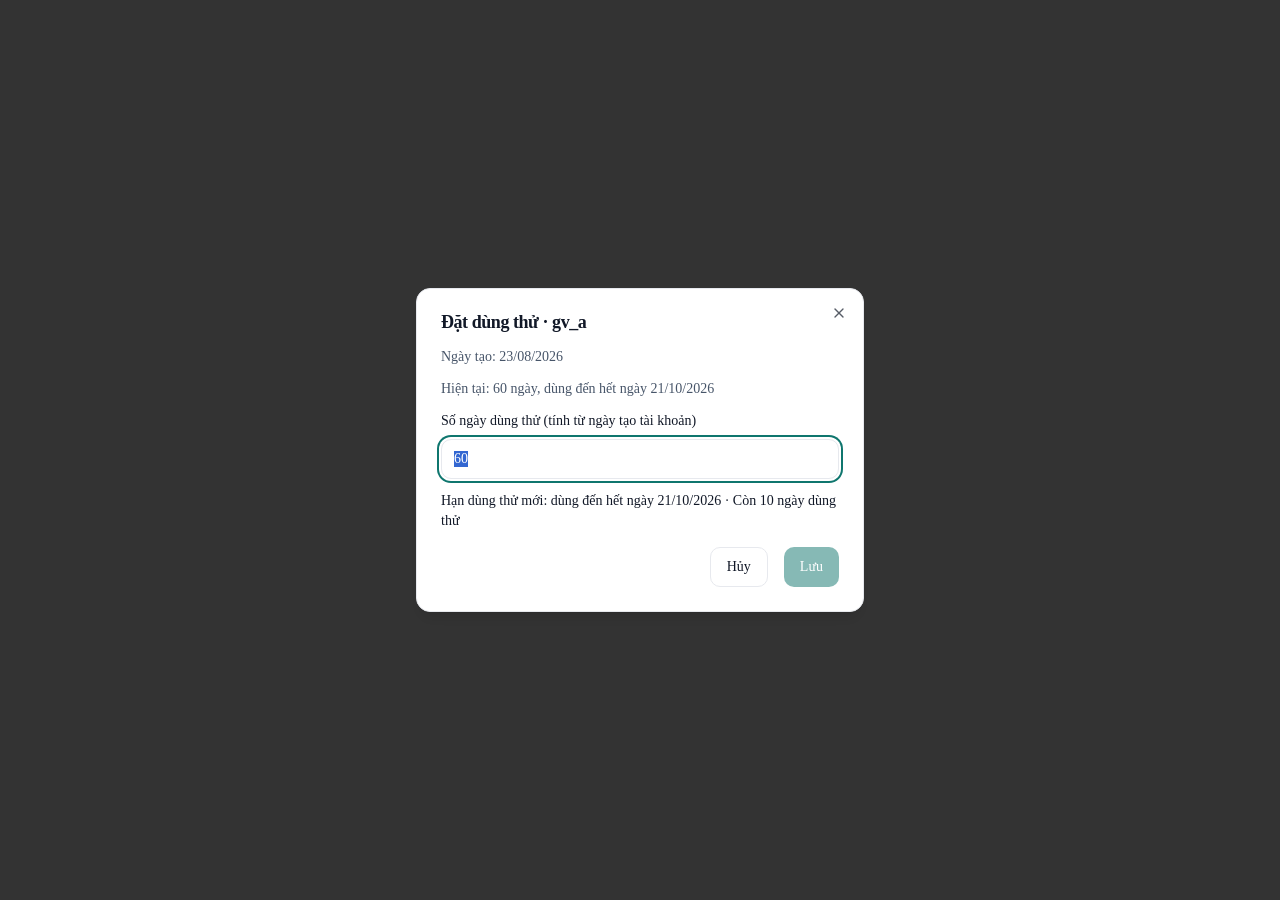
TrialDaysDialog › 0 → Không dùng thử; 4000 → lỗi khoảng, Lưu khóa
Replace the text in the field named "Số ngày dùng thử (tính từ ngày tạo tài khoản)" with "0": (640, 459) [441,439,839,479]
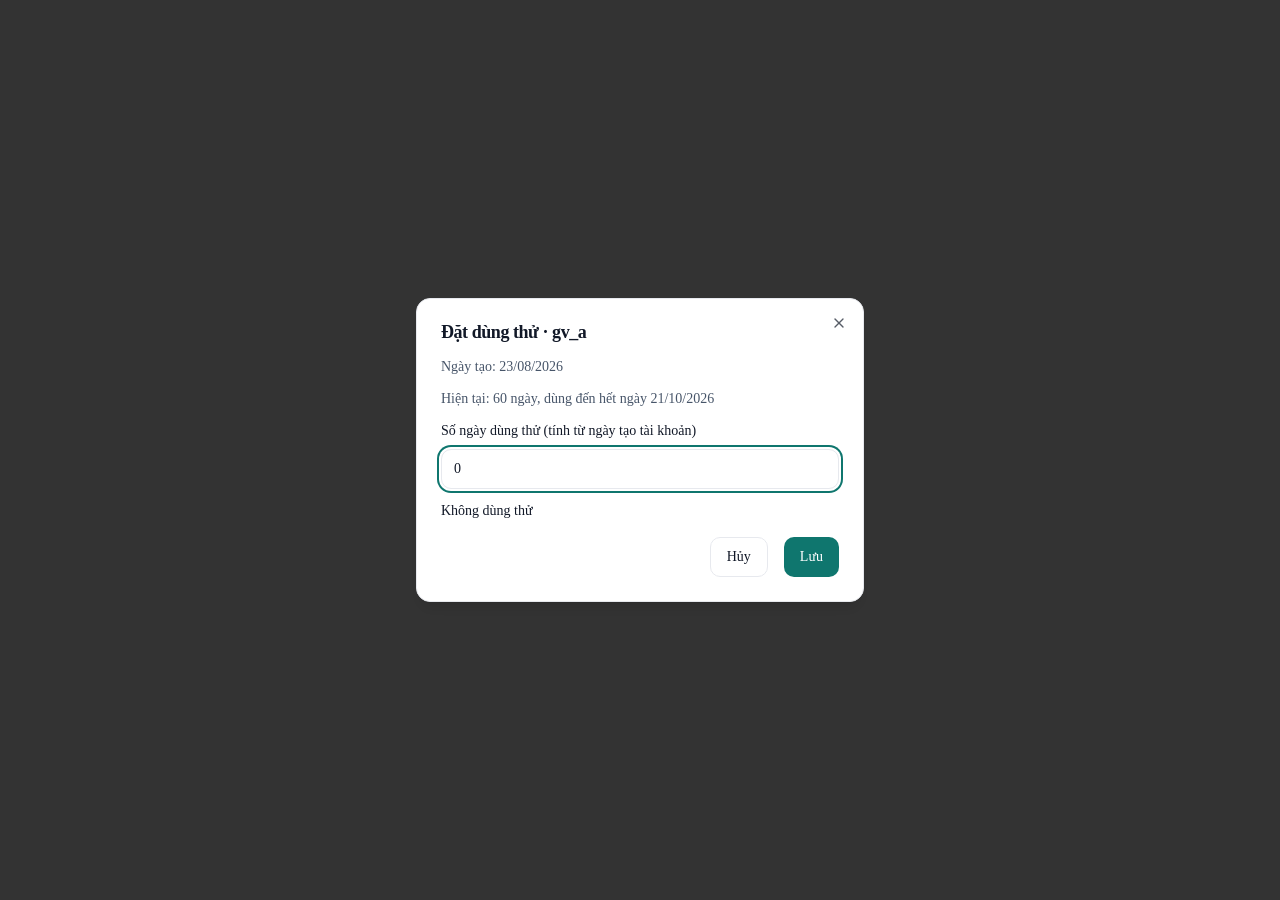
Check: the text with test id "trial-preview" reads "Không dùng thử", box [441,503,533,518]
Replace the text in the field named "Số ngày dùng thử (tính từ ngày tạo tài khoản)" with "4000": (640, 469) [441,449,839,489]
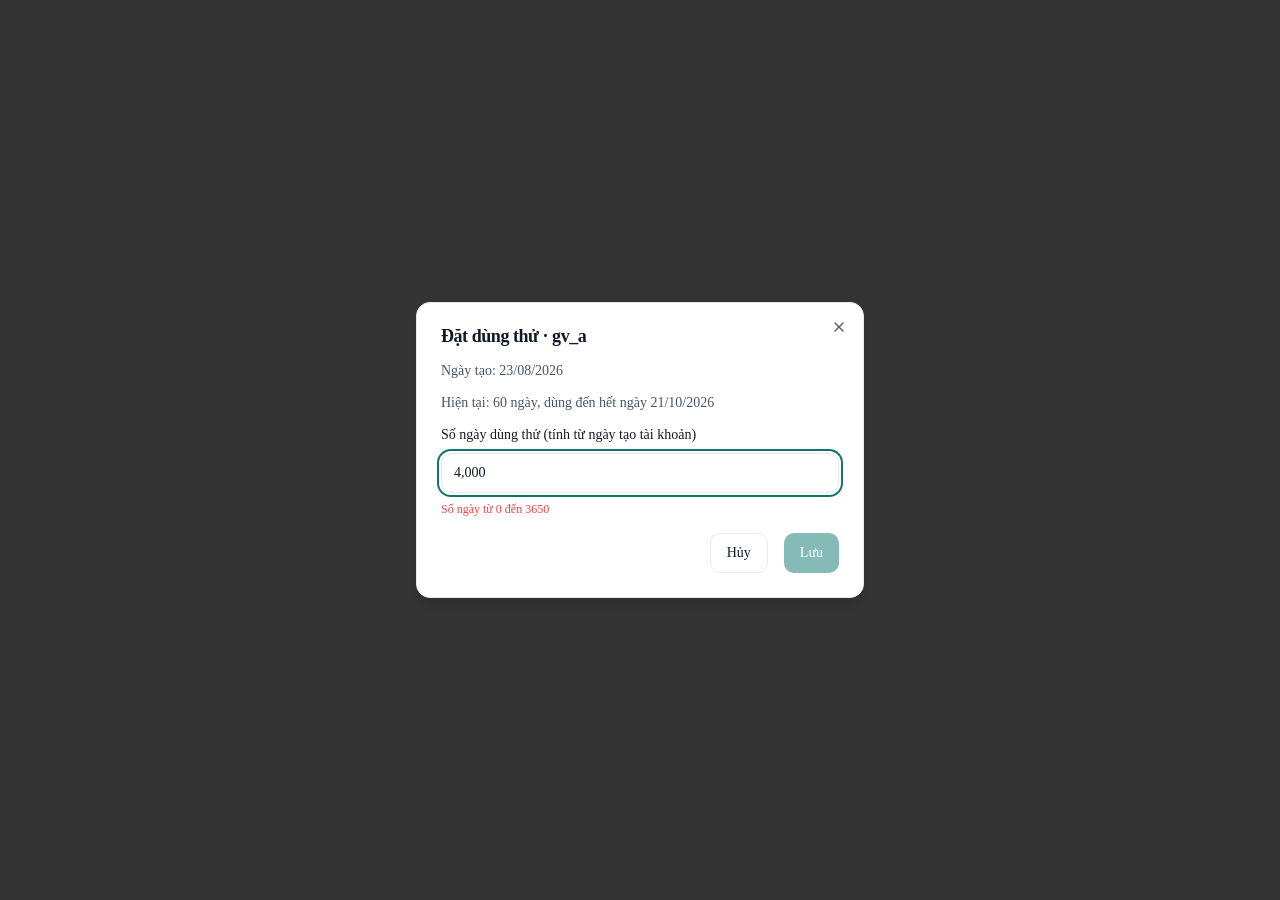
Check: the dialog shows "Số ngày từ 0 đến 3650", box [441,502,549,516]
Check: the button "Lưu" is disabled, box [784,533,839,573]
